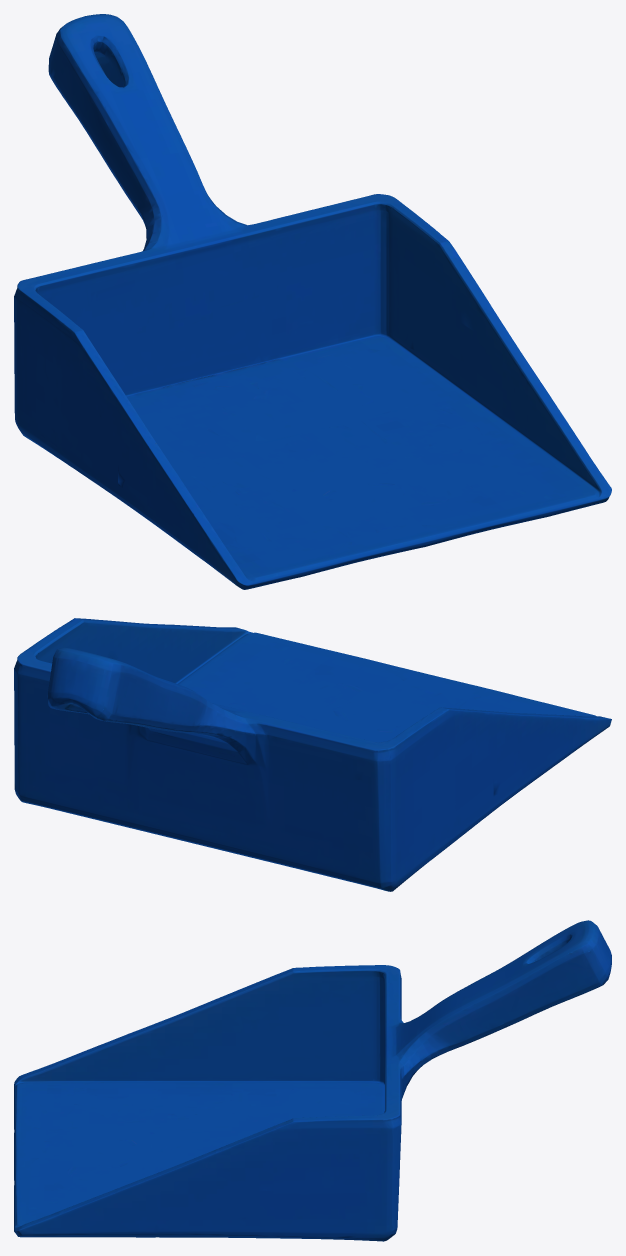
Rendered from dustpan.glb.
3 renders of one model, top to bottom at view 1: azimuth 30°, elevation 25°; view 2: azimuth 150°, elevation 25°; view 3: azimuth 270°, elevation 25°, orthographic. The views are drawn at different scales.
Visible parts, largest first — view 1: material; view 2: material; view 3: material.
Boxes of the visible parts, left/top/right/bottom form: material: left=14, top=14, right=611, bottom=589; material: left=14, top=618, right=611, bottom=891; material: left=14, top=920, right=611, bottom=1241.
Size of the model in its own units: 0.6 by 0.4285 by 0.9745.
Materials: 1 (1 with a texture image).
